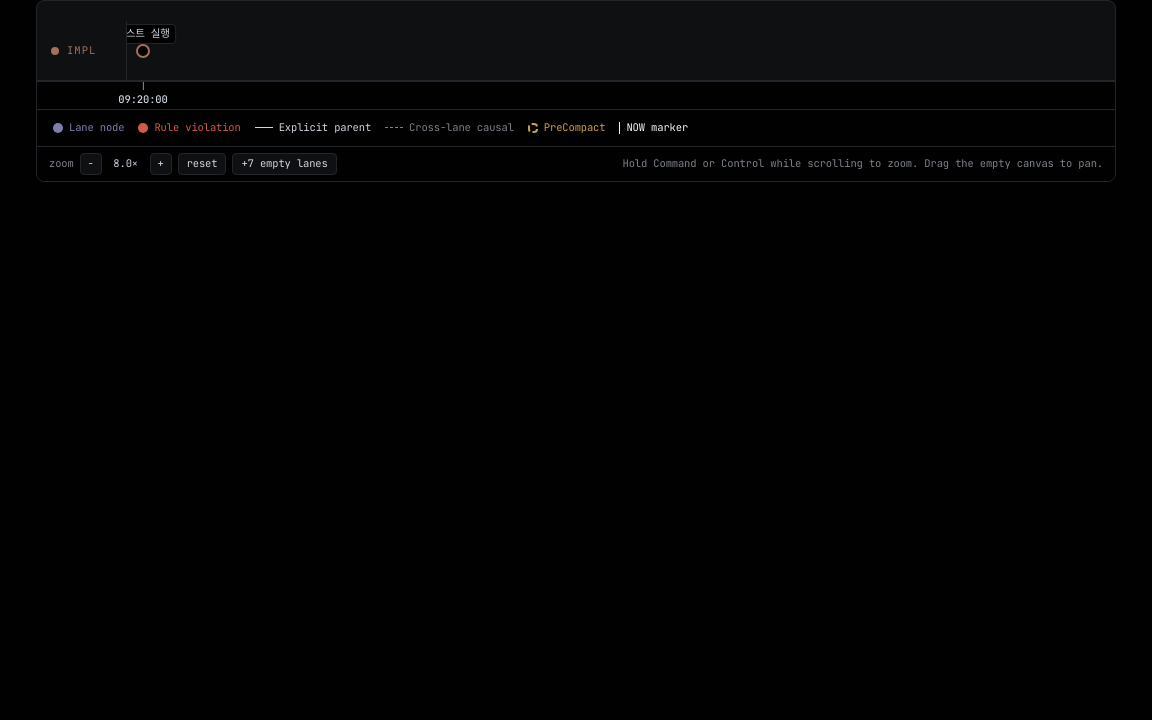
Test case: GraphView › 빈 레인을 기본으로 숨기고 사용자가 전체 레인을 펼칠 수 있게 한다
Expected: the text "IMPL" is shown, [67,43,96,58]
Expected: the text "USER" is not shown
Click the button "+7 empty lanes" at (285, 164), box [232,153,337,175]
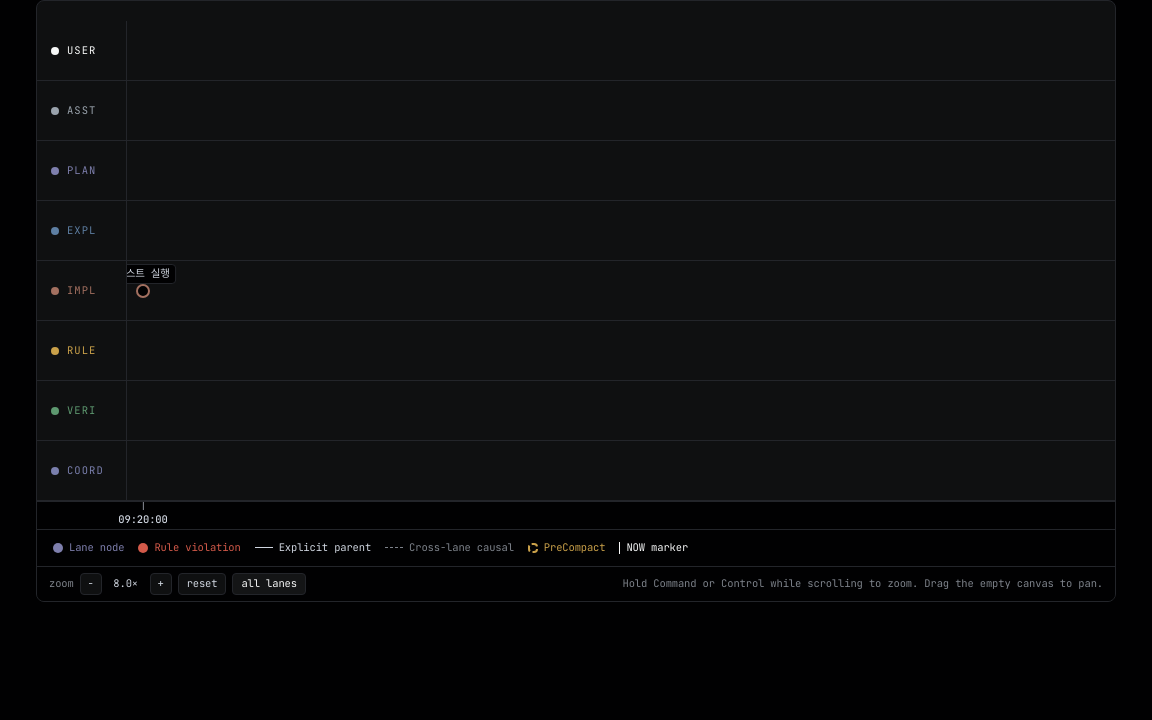
Result: the text "USER" is shown at [67,43,96,58]
